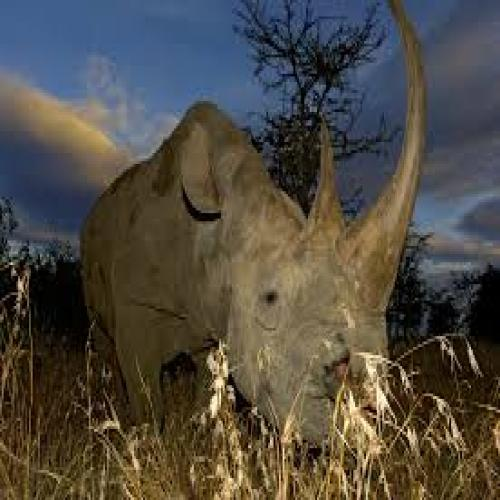rhino-endangered: (79, 7, 424, 449)
